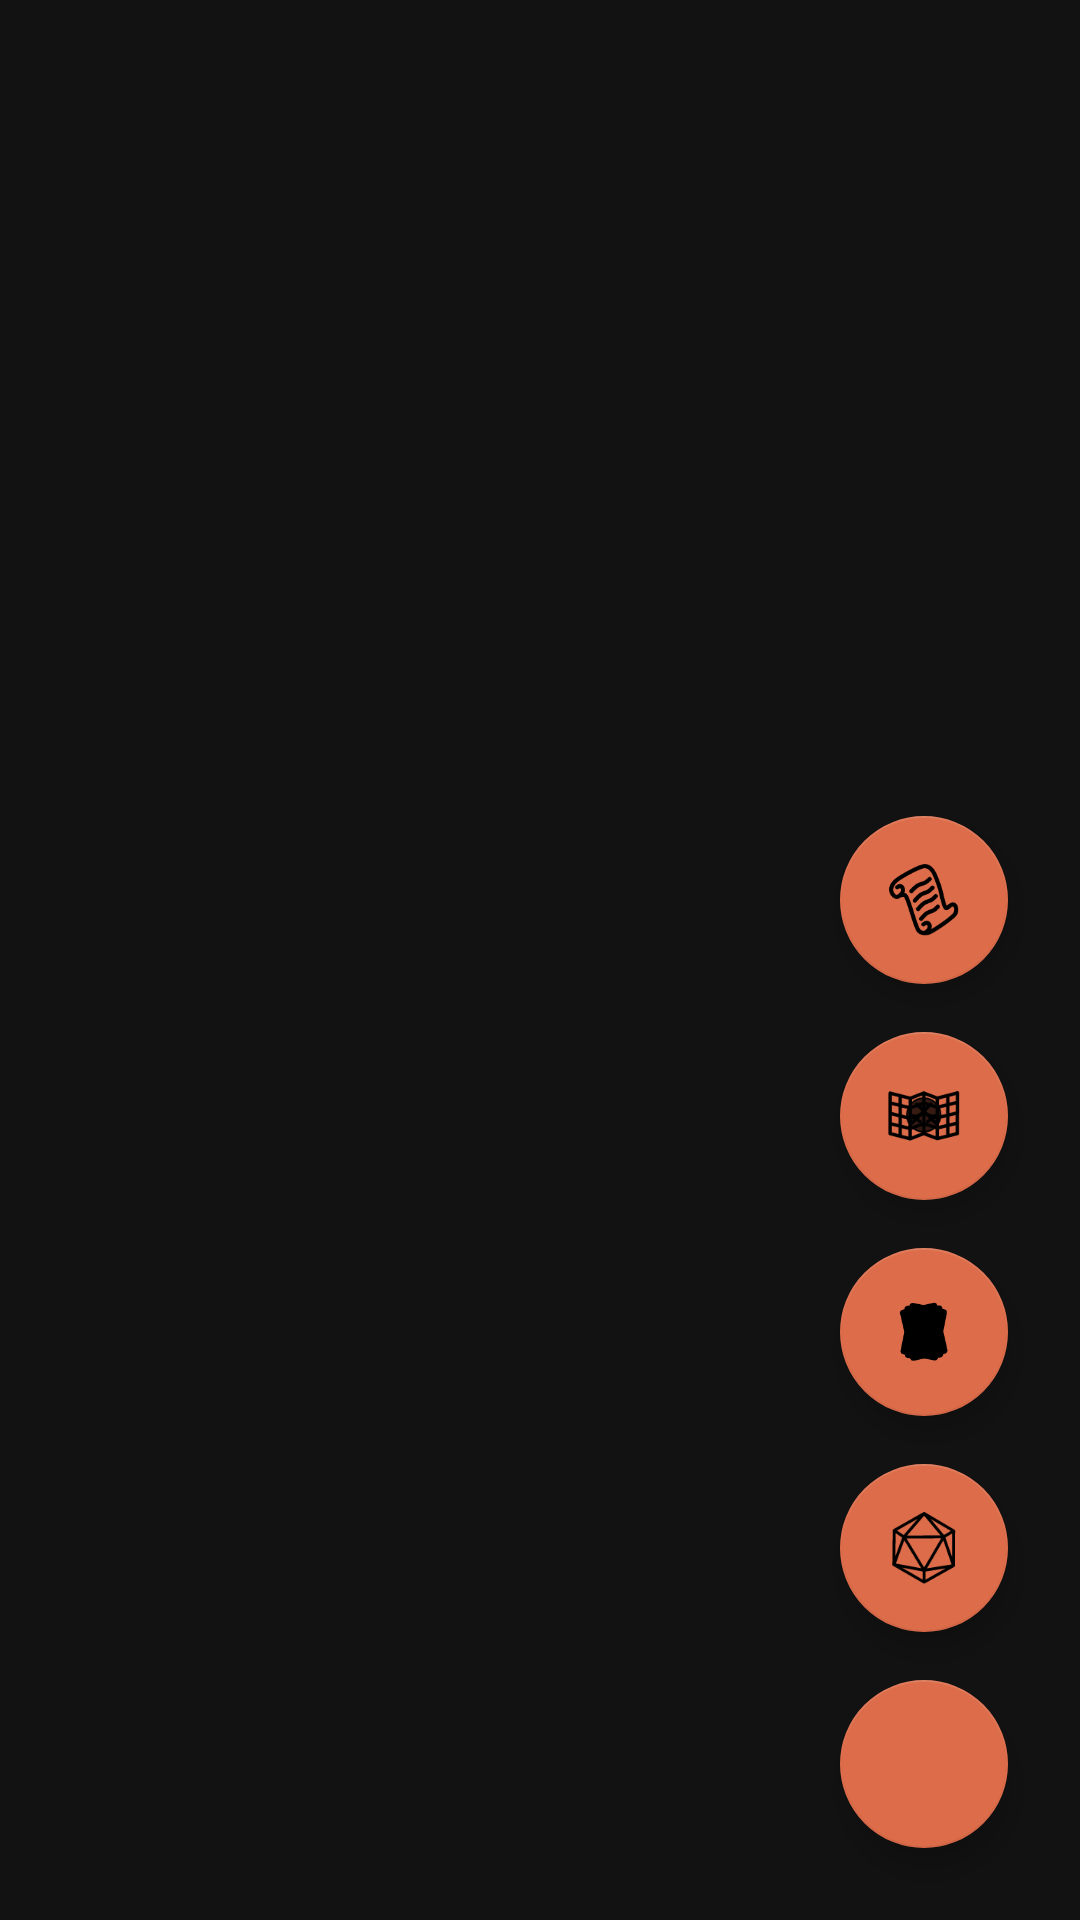

Named icons in this screenshot (1080w x 1920h) and their centers, [x,y]:
battlegrid: [924,1116]
dicebicon: [924,1548]
notes: [924,900]
